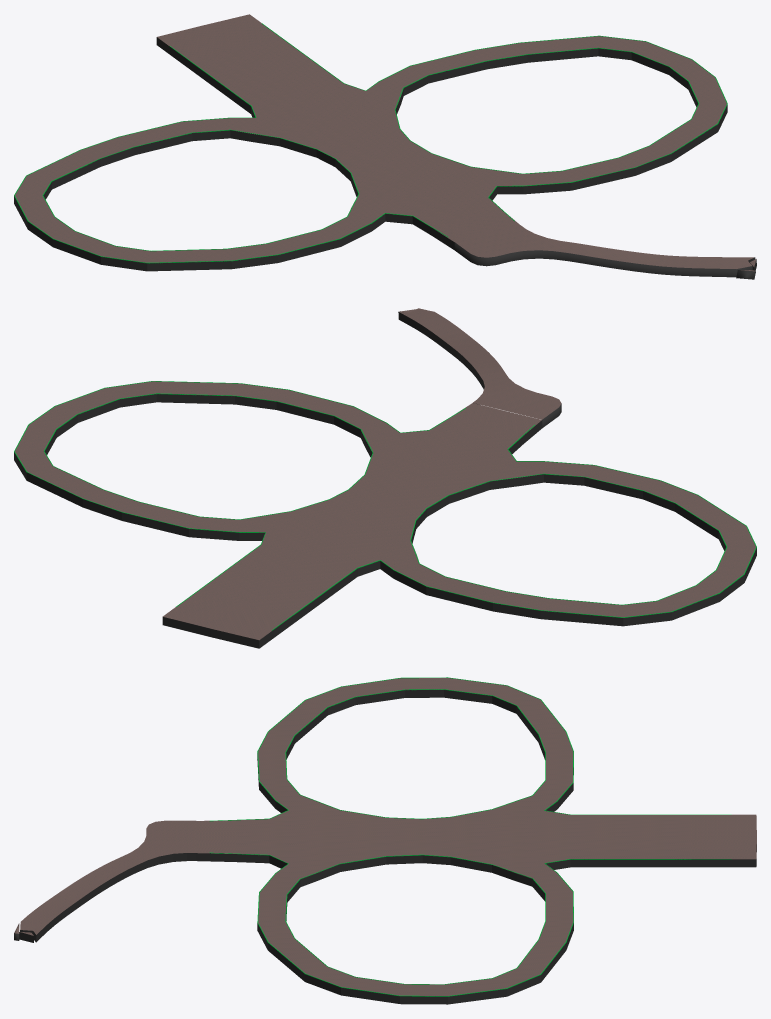
The model's file is Pathway.fbx.
The picture shows the model from 3 angles, top to bottom: view 1: azimuth 30°, elevation 25°; view 2: azimuth 150°, elevation 25°; view 3: azimuth 270°, elevation 25°; orthographic projection. The views are drawn at different scales.
Visible parts, largest first — view 1: Pathway, Pathway.001; view 2: Pathway, Pathway.001; view 3: Pathway, Pathway.001.
Part boxes in pixels (x1,y1,x2,y2): Pathway: (14, 14, 727, 271); Pathway.001: (454, 225, 755, 277); Pathway: (14, 381, 756, 648); Pathway.001: (398, 308, 561, 427); Pathway: (196, 678, 756, 1004); Pathway.001: (20, 820, 196, 942).
Size of the model in its own units: 3206 by 3157 by 97.55.
